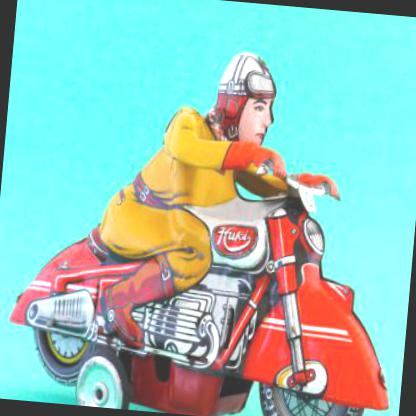motorcycle: (10, 115, 412, 415)
